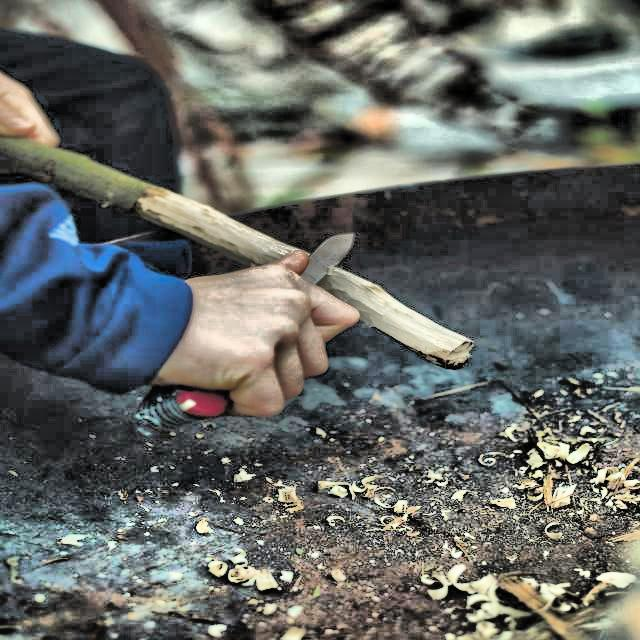knife: (182, 226, 366, 418)
